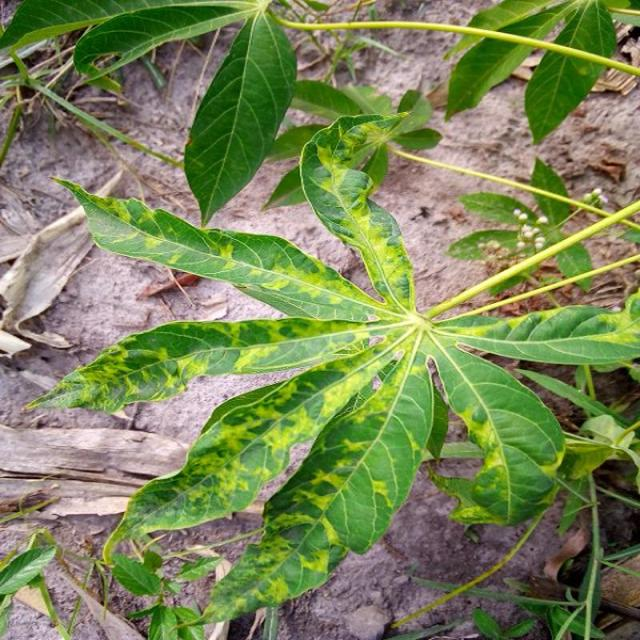cassava leaf: (24, 95, 639, 631), (184, 8, 298, 227)
